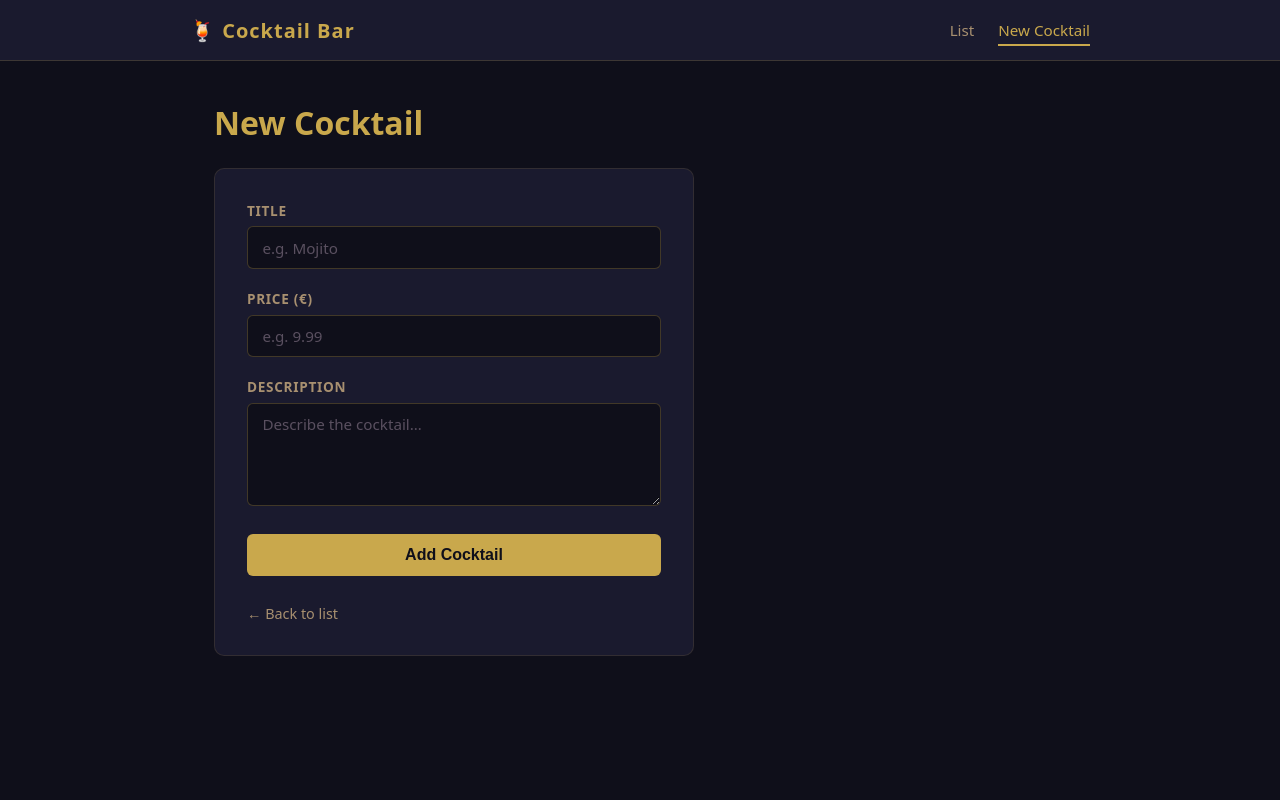
Test: New Cocktail page › should show a success toast and reset the form after a successful submission
Type "Daiquiri" into the field with id "title" at (454,248), box [247,226,661,269]
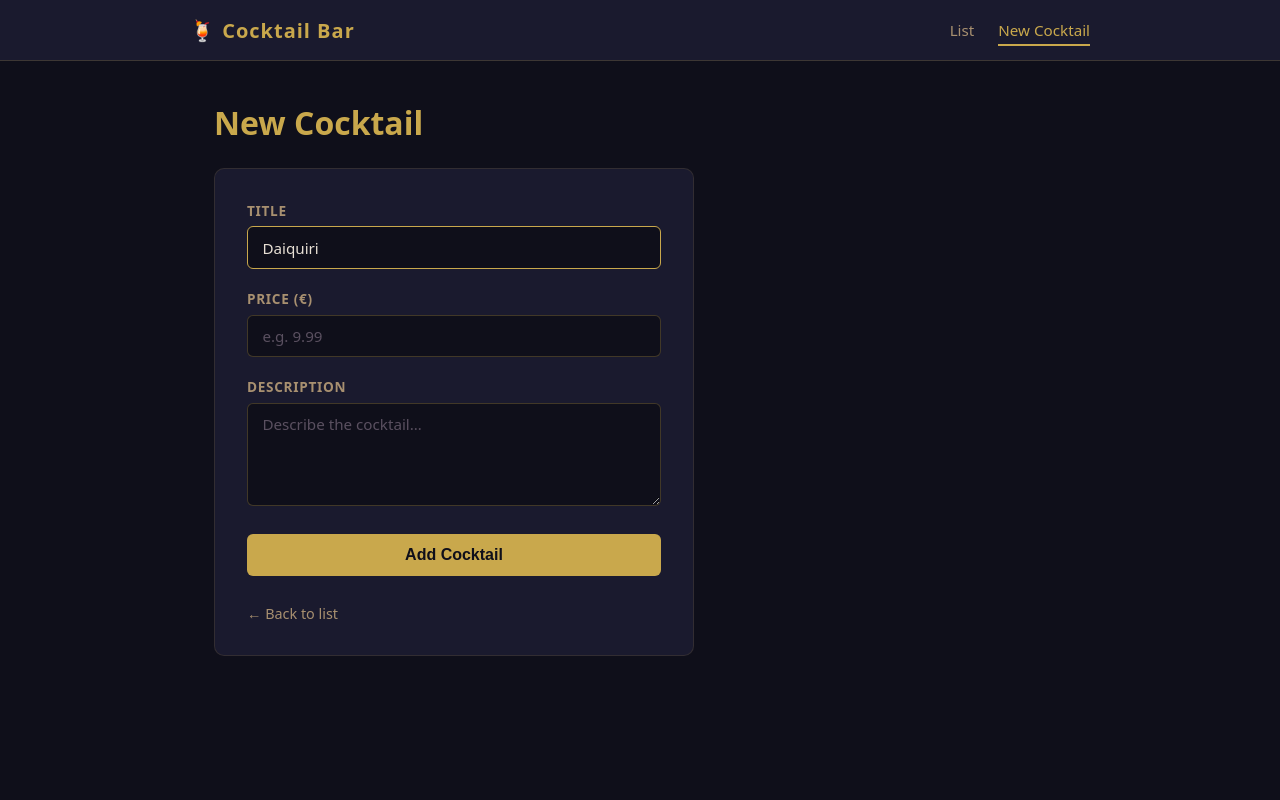
Type "9.0" into the number field labelled "Price (€)" at (454,337), box [247,315,661,358]
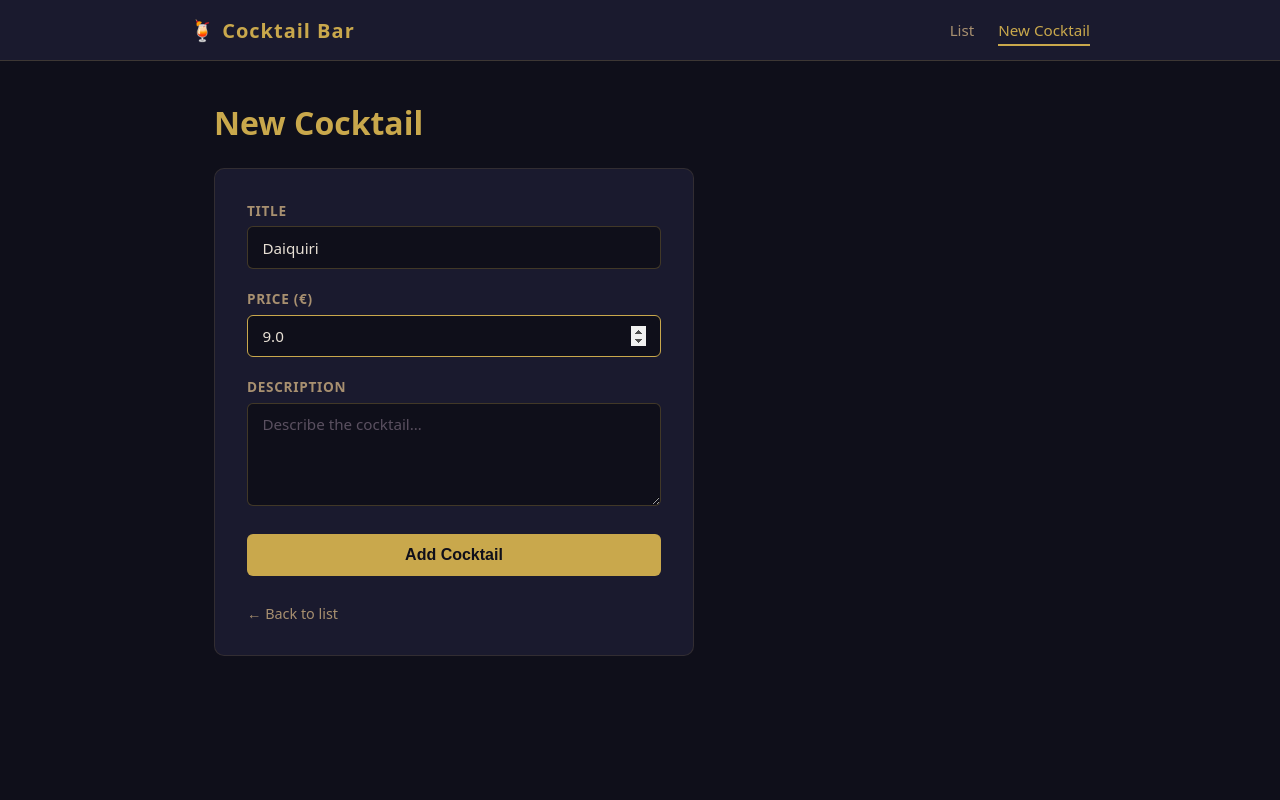
Type "Rum and fresh lime juice" into the text box with id "description" at (454,455), box [247,403,661,506]
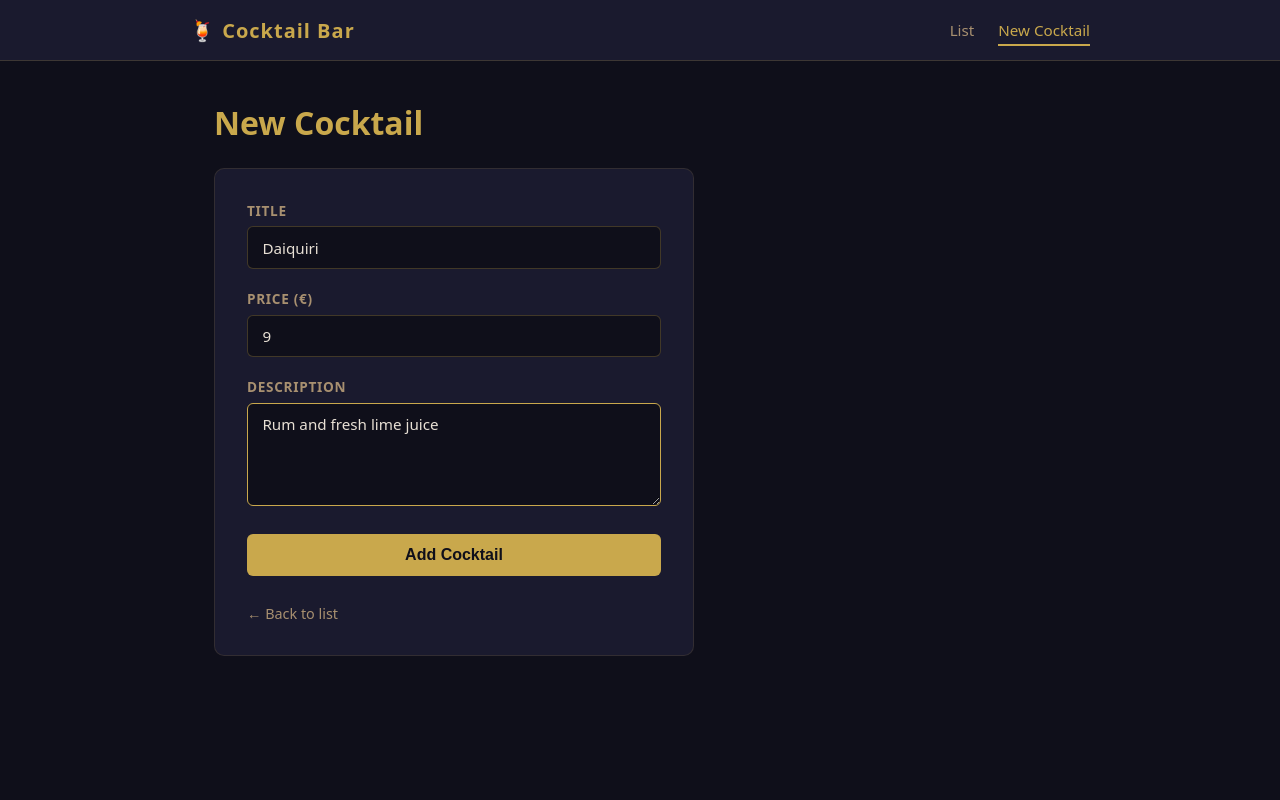
Click the submit button at (454,555), box [247,534,661,576]
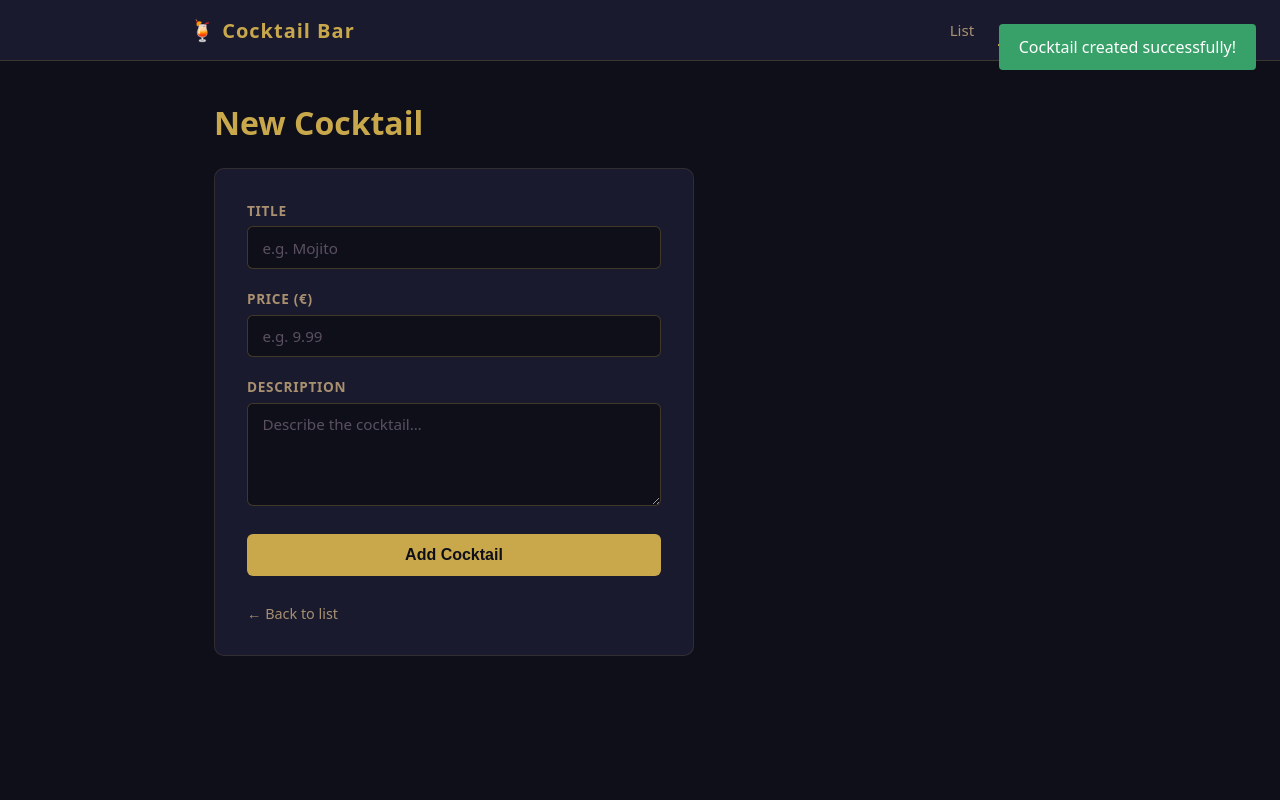
Now the text with class "success" shows "Cocktail created successfully", box [1019,36,1236,58]
